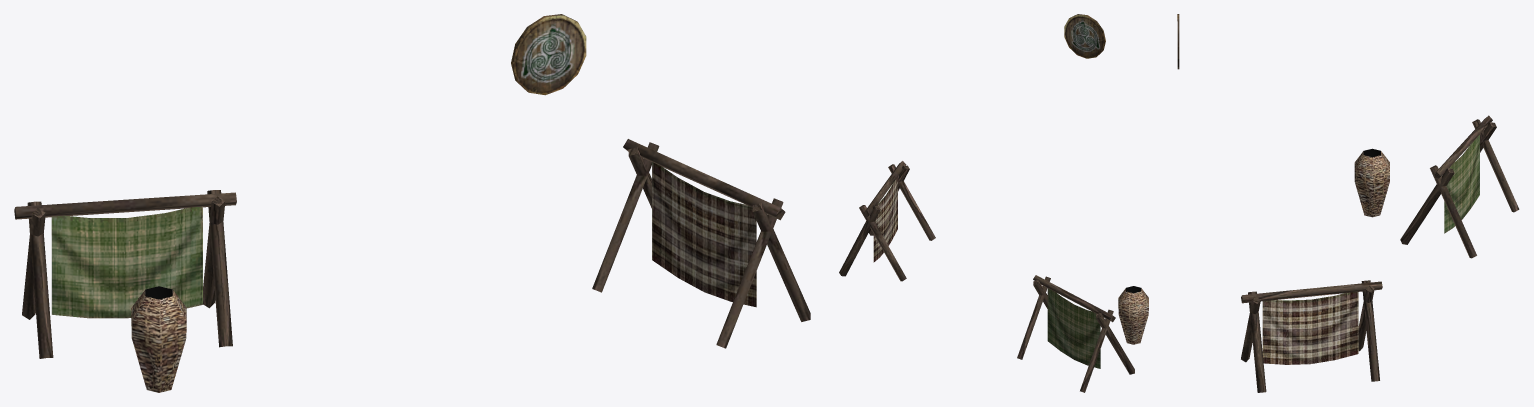
Rendered from celt_market1_props_new.glb.
The picture shows the model from 3 angles, left to right: view 1: azimuth 30°, elevation 25°; view 2: azimuth 150°, elevation 25°; view 3: azimuth 270°, elevation 25°; orthographic projection. The views are drawn at different scales.
Visible parts, largest first — view 1: Medallion01-Pivot; view 2: Medallion01-Pivot; view 3: Medallion01-Pivot.
Boxes of the visible parts, x1=… form: Medallion01-Pivot: x1=14, y1=14, x2=810, y2=392; Medallion01-Pivot: x1=839, y1=14, x2=1148, y2=392; Medallion01-Pivot: x1=1177, y1=14, x2=1519, y2=392.
Bounding box in the file's own units: 14.39 × 9.45 × 10.57.
1 material, 1 textured.
